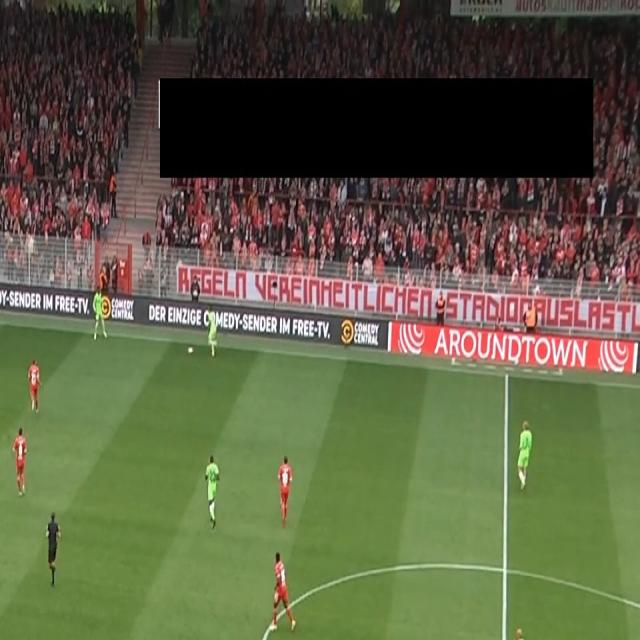ball: (187, 344, 194, 357)
